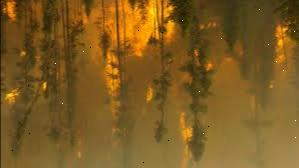fire: (84, 0, 181, 109), (0, 1, 62, 107), (269, 12, 299, 85)
